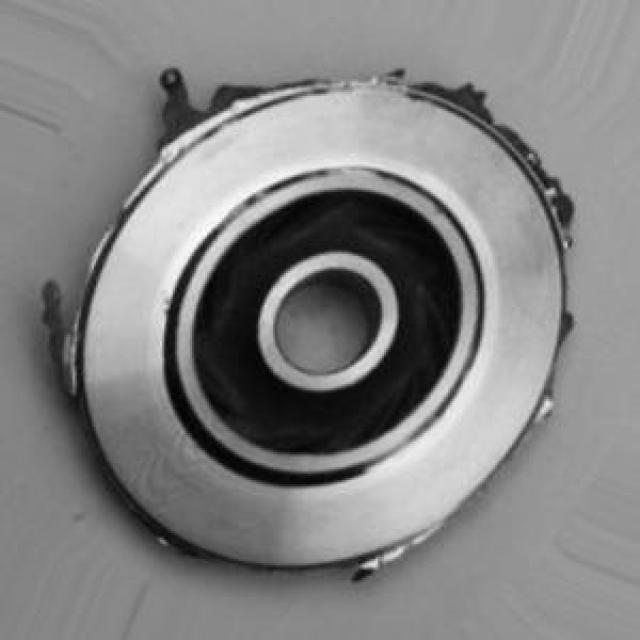Defect: (147, 74, 207, 148), (438, 72, 515, 127), (36, 294, 81, 368)
